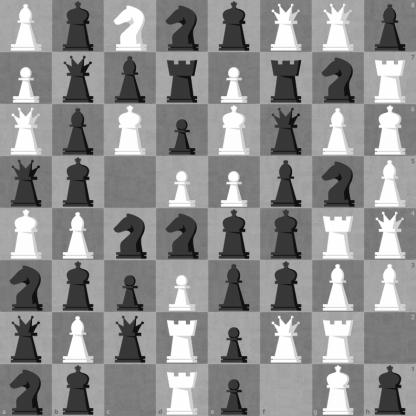B: (364, 156, 416, 209), (364, 260, 416, 312), (1, 1, 52, 52), (53, 209, 104, 260), (53, 313, 104, 364), (313, 105, 364, 156), (313, 261, 364, 312)
K: (312, 364, 364, 416), (364, 104, 416, 156), (1, 209, 52, 260), (105, 105, 156, 156), (209, 105, 260, 156)
N: (105, 1, 156, 52)
P: (1, 53, 52, 104), (157, 157, 208, 208), (157, 261, 208, 312), (209, 53, 260, 104), (209, 157, 260, 208)
Q: (364, 209, 416, 260), (1, 105, 52, 156), (261, 1, 312, 52), (261, 313, 312, 364), (313, 1, 364, 52)
R: (156, 364, 209, 416), (364, 52, 416, 104), (157, 313, 208, 364), (313, 209, 364, 260), (313, 313, 364, 364)
b: (364, 0, 416, 52), (53, 105, 104, 156), (105, 53, 156, 104), (209, 261, 260, 312), (261, 157, 312, 208)
board: (0, 0, 415, 415)
k: (52, 364, 104, 416), (364, 364, 416, 416), (53, 1, 104, 52), (53, 157, 104, 208), (53, 261, 104, 312), (209, 1, 260, 52), (209, 209, 260, 260), (261, 209, 312, 260), (261, 261, 312, 312)
n: (0, 364, 52, 416), (1, 261, 52, 312), (105, 209, 156, 260), (157, 1, 208, 52), (157, 209, 208, 260), (313, 53, 364, 104), (313, 157, 364, 208)
p: (209, 364, 260, 416), (105, 261, 156, 312), (157, 105, 208, 156), (209, 313, 260, 364)
q: (1, 157, 52, 208), (1, 313, 52, 364), (53, 53, 104, 104), (105, 313, 156, 364), (261, 105, 312, 156)
r: (157, 53, 208, 104), (261, 53, 312, 104)
